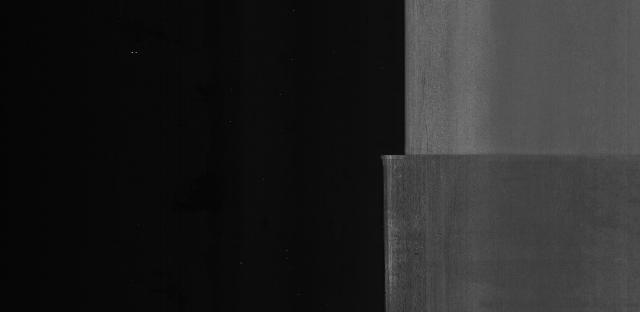welding_line: (374, 141, 640, 167)
